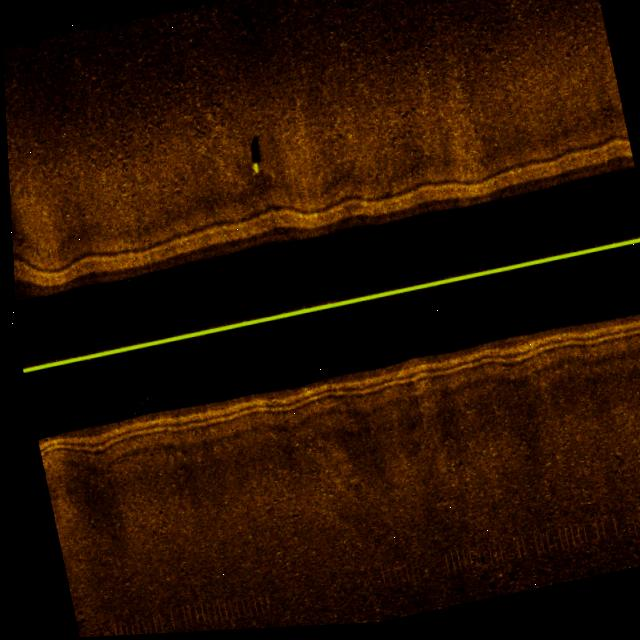mine: (238, 129, 269, 183), (241, 134, 268, 181)
